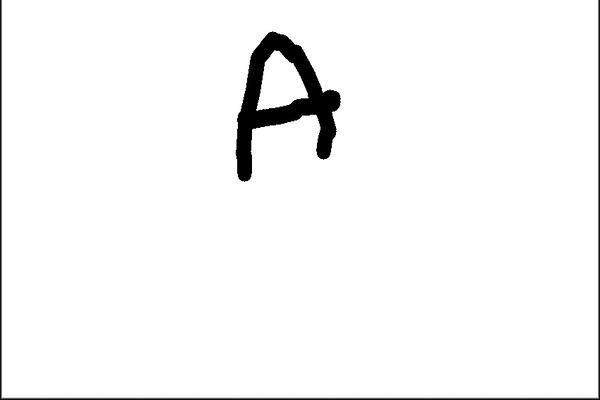A: (220, 26, 348, 192)
